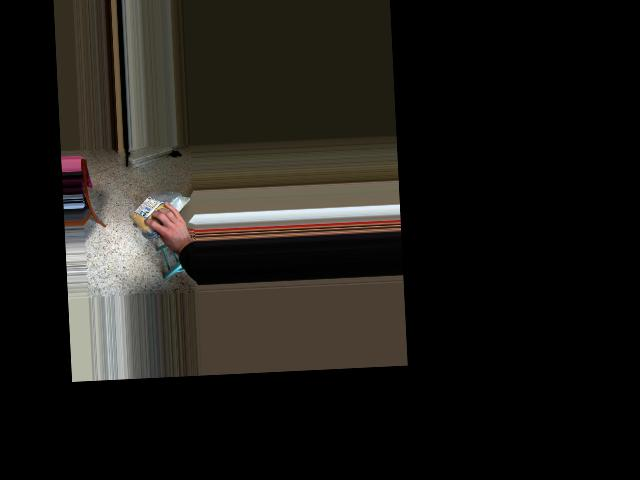cheese: (130, 193, 192, 229)
